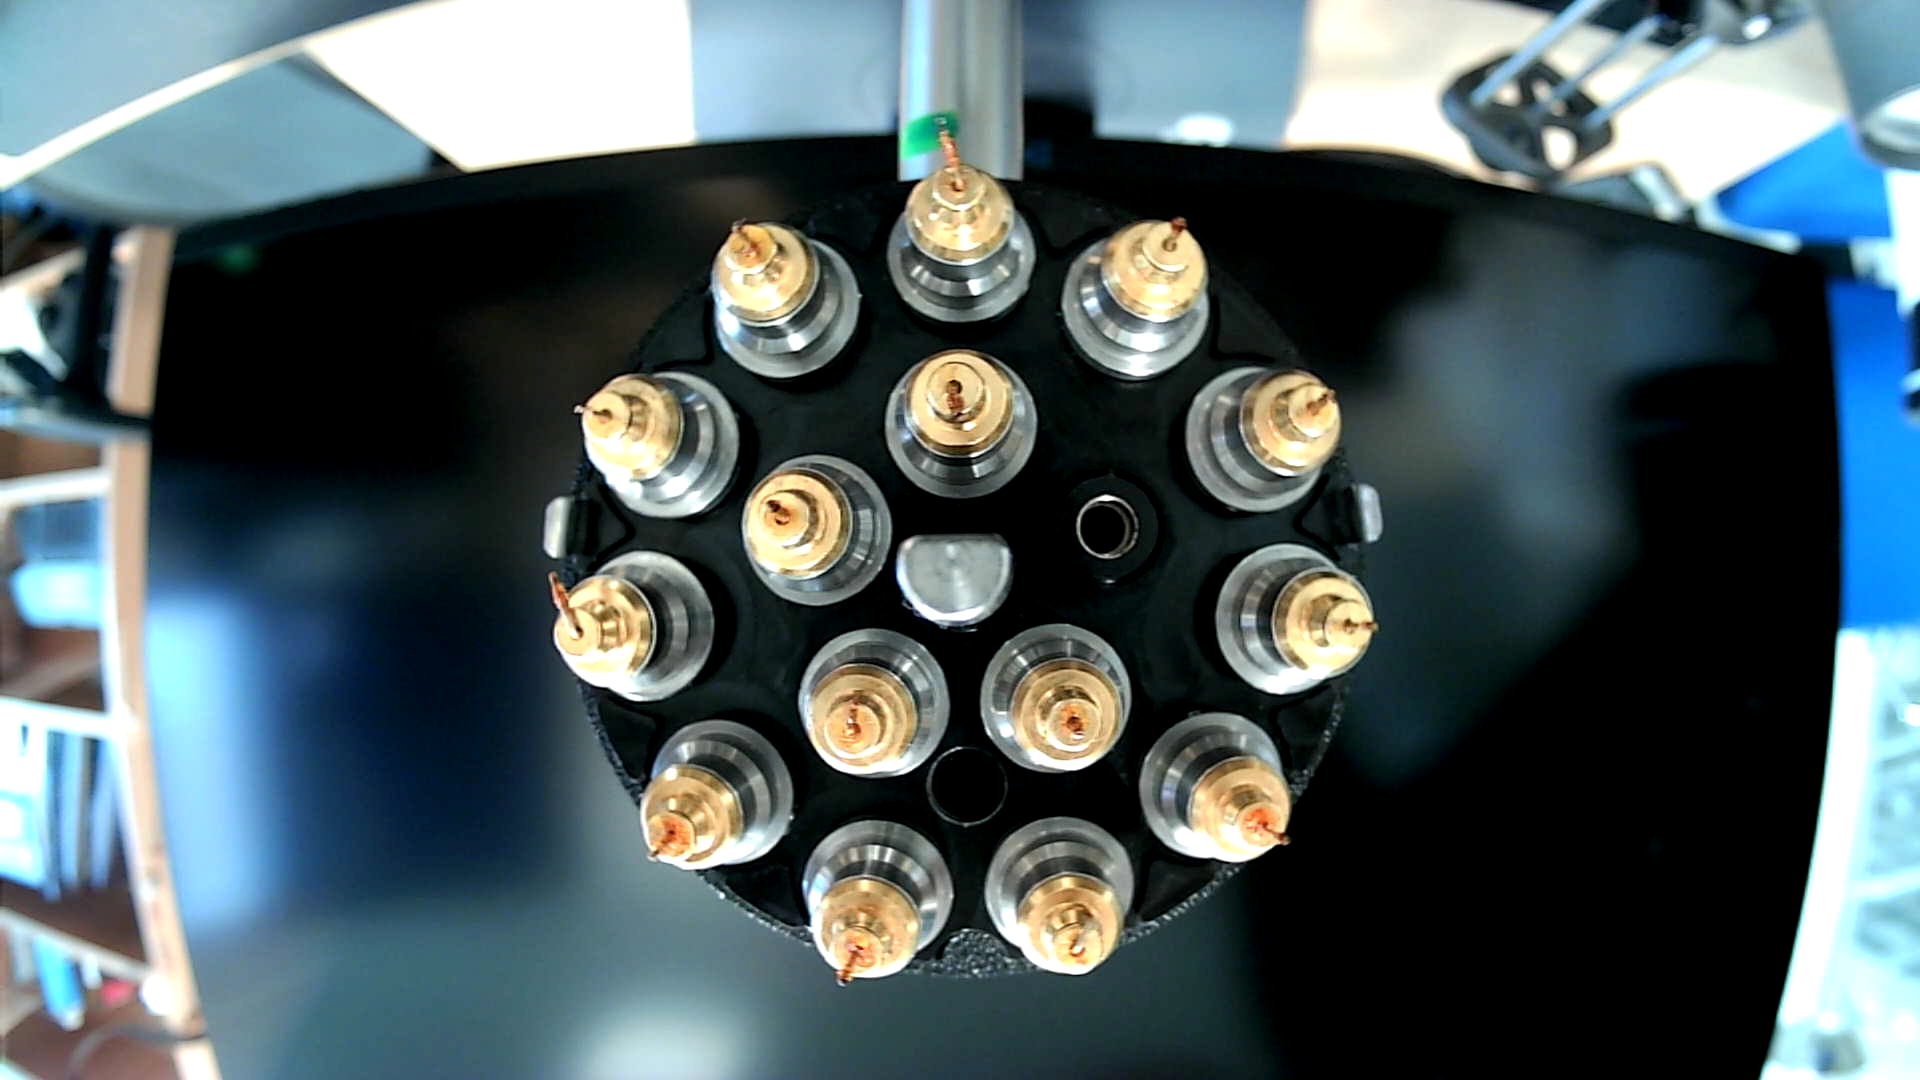bent: (885, 123, 1036, 328), (545, 547, 719, 707), (982, 807, 1135, 978), (880, 345, 1040, 504), (794, 626, 952, 785)
empty: (1040, 465, 1172, 597)
hole: (924, 742, 1009, 829)
pin: (798, 814, 953, 993), (1209, 545, 1381, 702), (567, 365, 740, 520), (708, 210, 862, 380), (1060, 214, 1211, 385), (1135, 705, 1296, 865), (638, 717, 794, 878), (1182, 360, 1340, 514), (737, 452, 893, 608), (977, 618, 1134, 773)
rod: (895, 527, 1015, 632)
